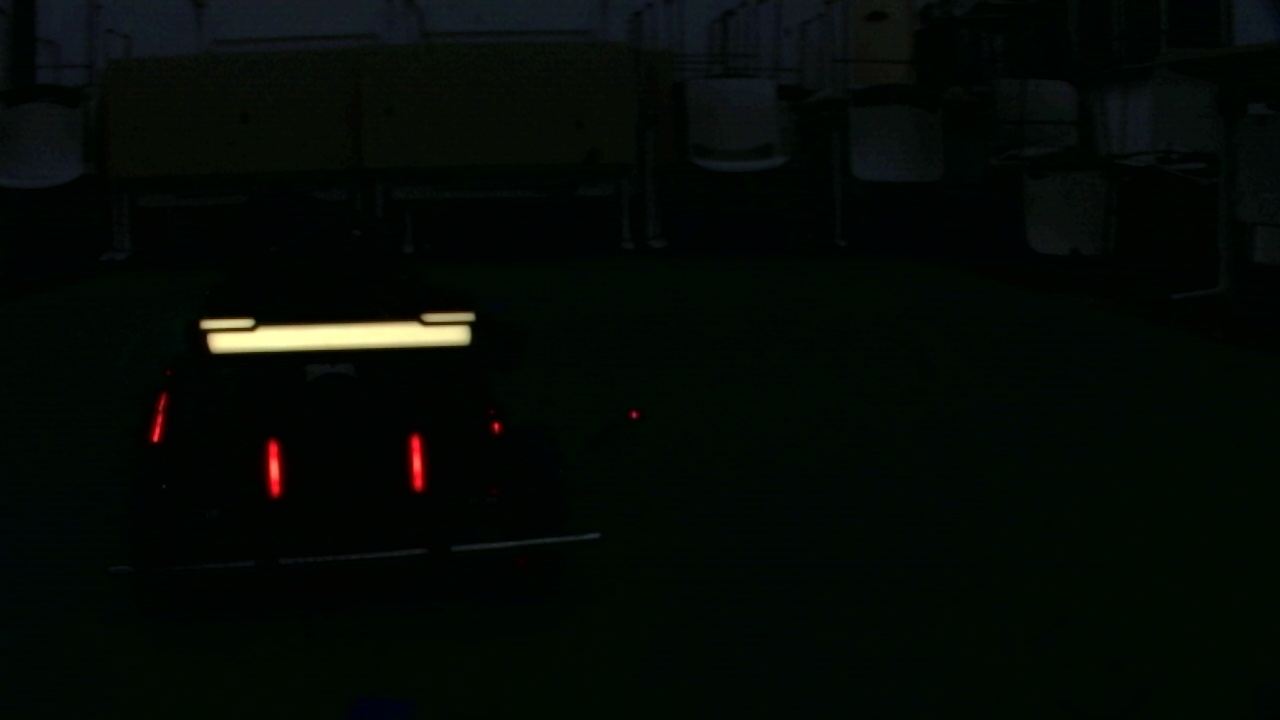lamp: (406, 432, 430, 496), (265, 434, 284, 498), (147, 384, 167, 443)
notpair1: (146, 382, 286, 504)
pair1: (266, 432, 428, 501)
